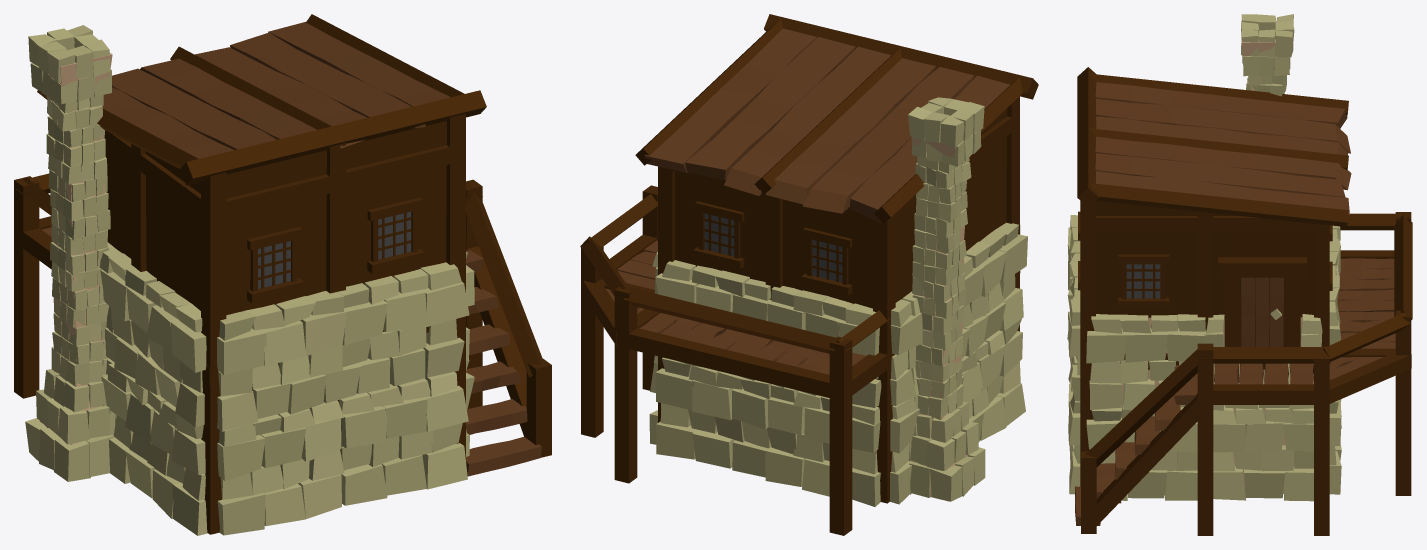
Rendered from Residential_2.fbx.
3 views of the same model, side by side, from view 1: azimuth 30°, elevation 25°; view 2: azimuth 150°, elevation 25°; view 3: azimuth 270°, elevation 25° (orthographic). The views are drawn at different scales.
Parts seen in each view (by area): view 1: Cube; view 2: Cube; view 3: Cube.
Boxes of the visible parts, x1,y1,x2,y2 form: Cube: (14, 14, 551, 535); Cube: (580, 14, 1038, 535); Cube: (1067, 14, 1412, 535).
Size of the model in its own units: 810 by 827 by 721.
